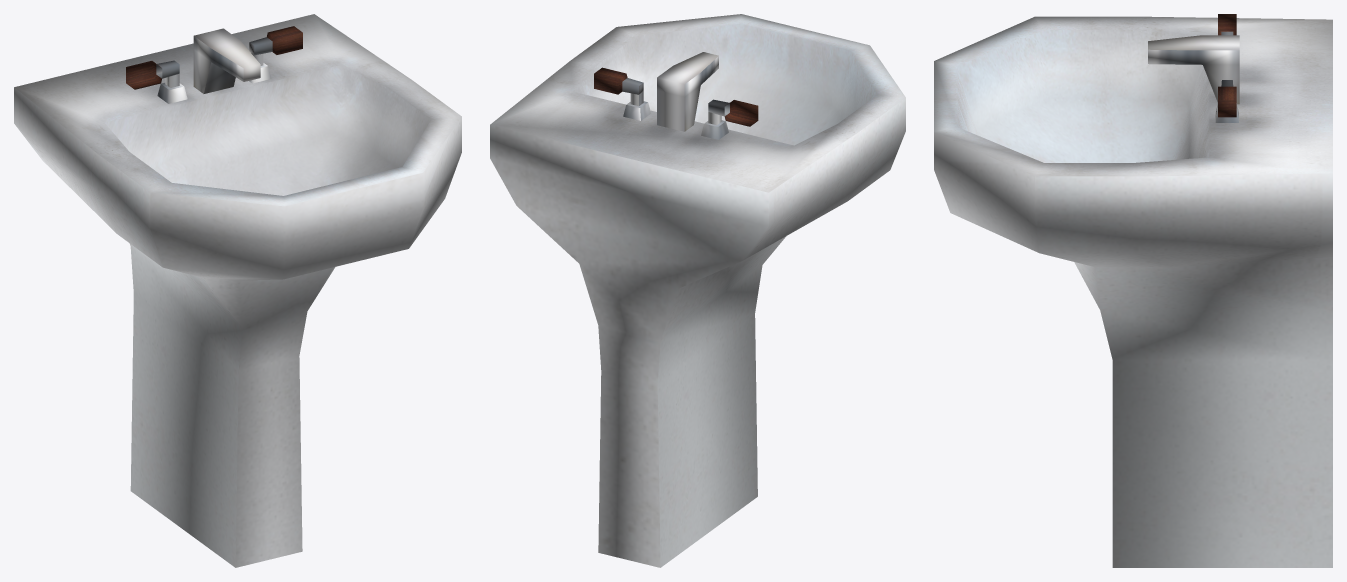
Rendered from sink.glb.
3 renders of one model, left to right at view 1: azimuth 30°, elevation 25°; view 2: azimuth 150°, elevation 25°; view 3: azimuth 270°, elevation 25°, orthographic. The views are drawn at different scales.
Parts seen in each view (by area): view 1: bowl; view 2: bowl; view 3: bowl.
Part boxes in pixels (x1,y1,x2,y2): bowl: [14, 14, 461, 567]; bowl: [490, 14, 905, 567]; bowl: [934, 14, 1332, 567].
Size of the model in its own units: 0.7827 by 1.16 by 0.8259.
Materials: 2 (2 with a texture image).
